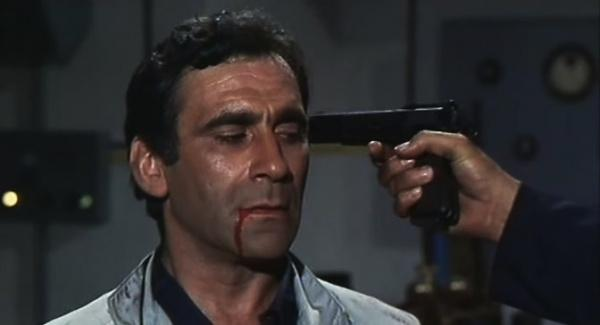Gun: (306, 104, 467, 229)
